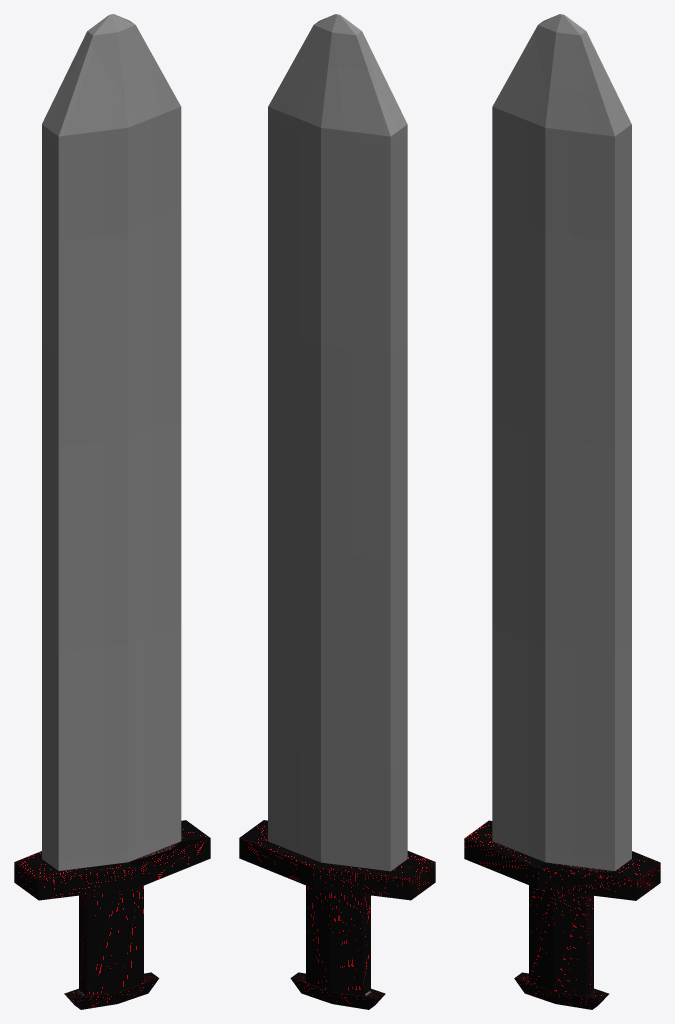
File: SwordBasic3.fbx
3 views of the same model, side by side, from view 1: azimuth 30°, elevation 25°; view 2: azimuth 150°, elevation 25°; view 3: azimuth 330°, elevation 25° (orthographic).
Visible parts, largest first — view 1: Cylinder; view 2: Cylinder; view 3: Cylinder.
Part boxes in pixels (bbox=[...]): Cylinder: bbox=[14, 14, 210, 1009]; Cylinder: bbox=[239, 14, 435, 1009]; Cylinder: bbox=[464, 14, 660, 1009].
Bounding box in the file's own units: 243 × 1329 × 119.
Materials: 1 (1 with a texture image).
